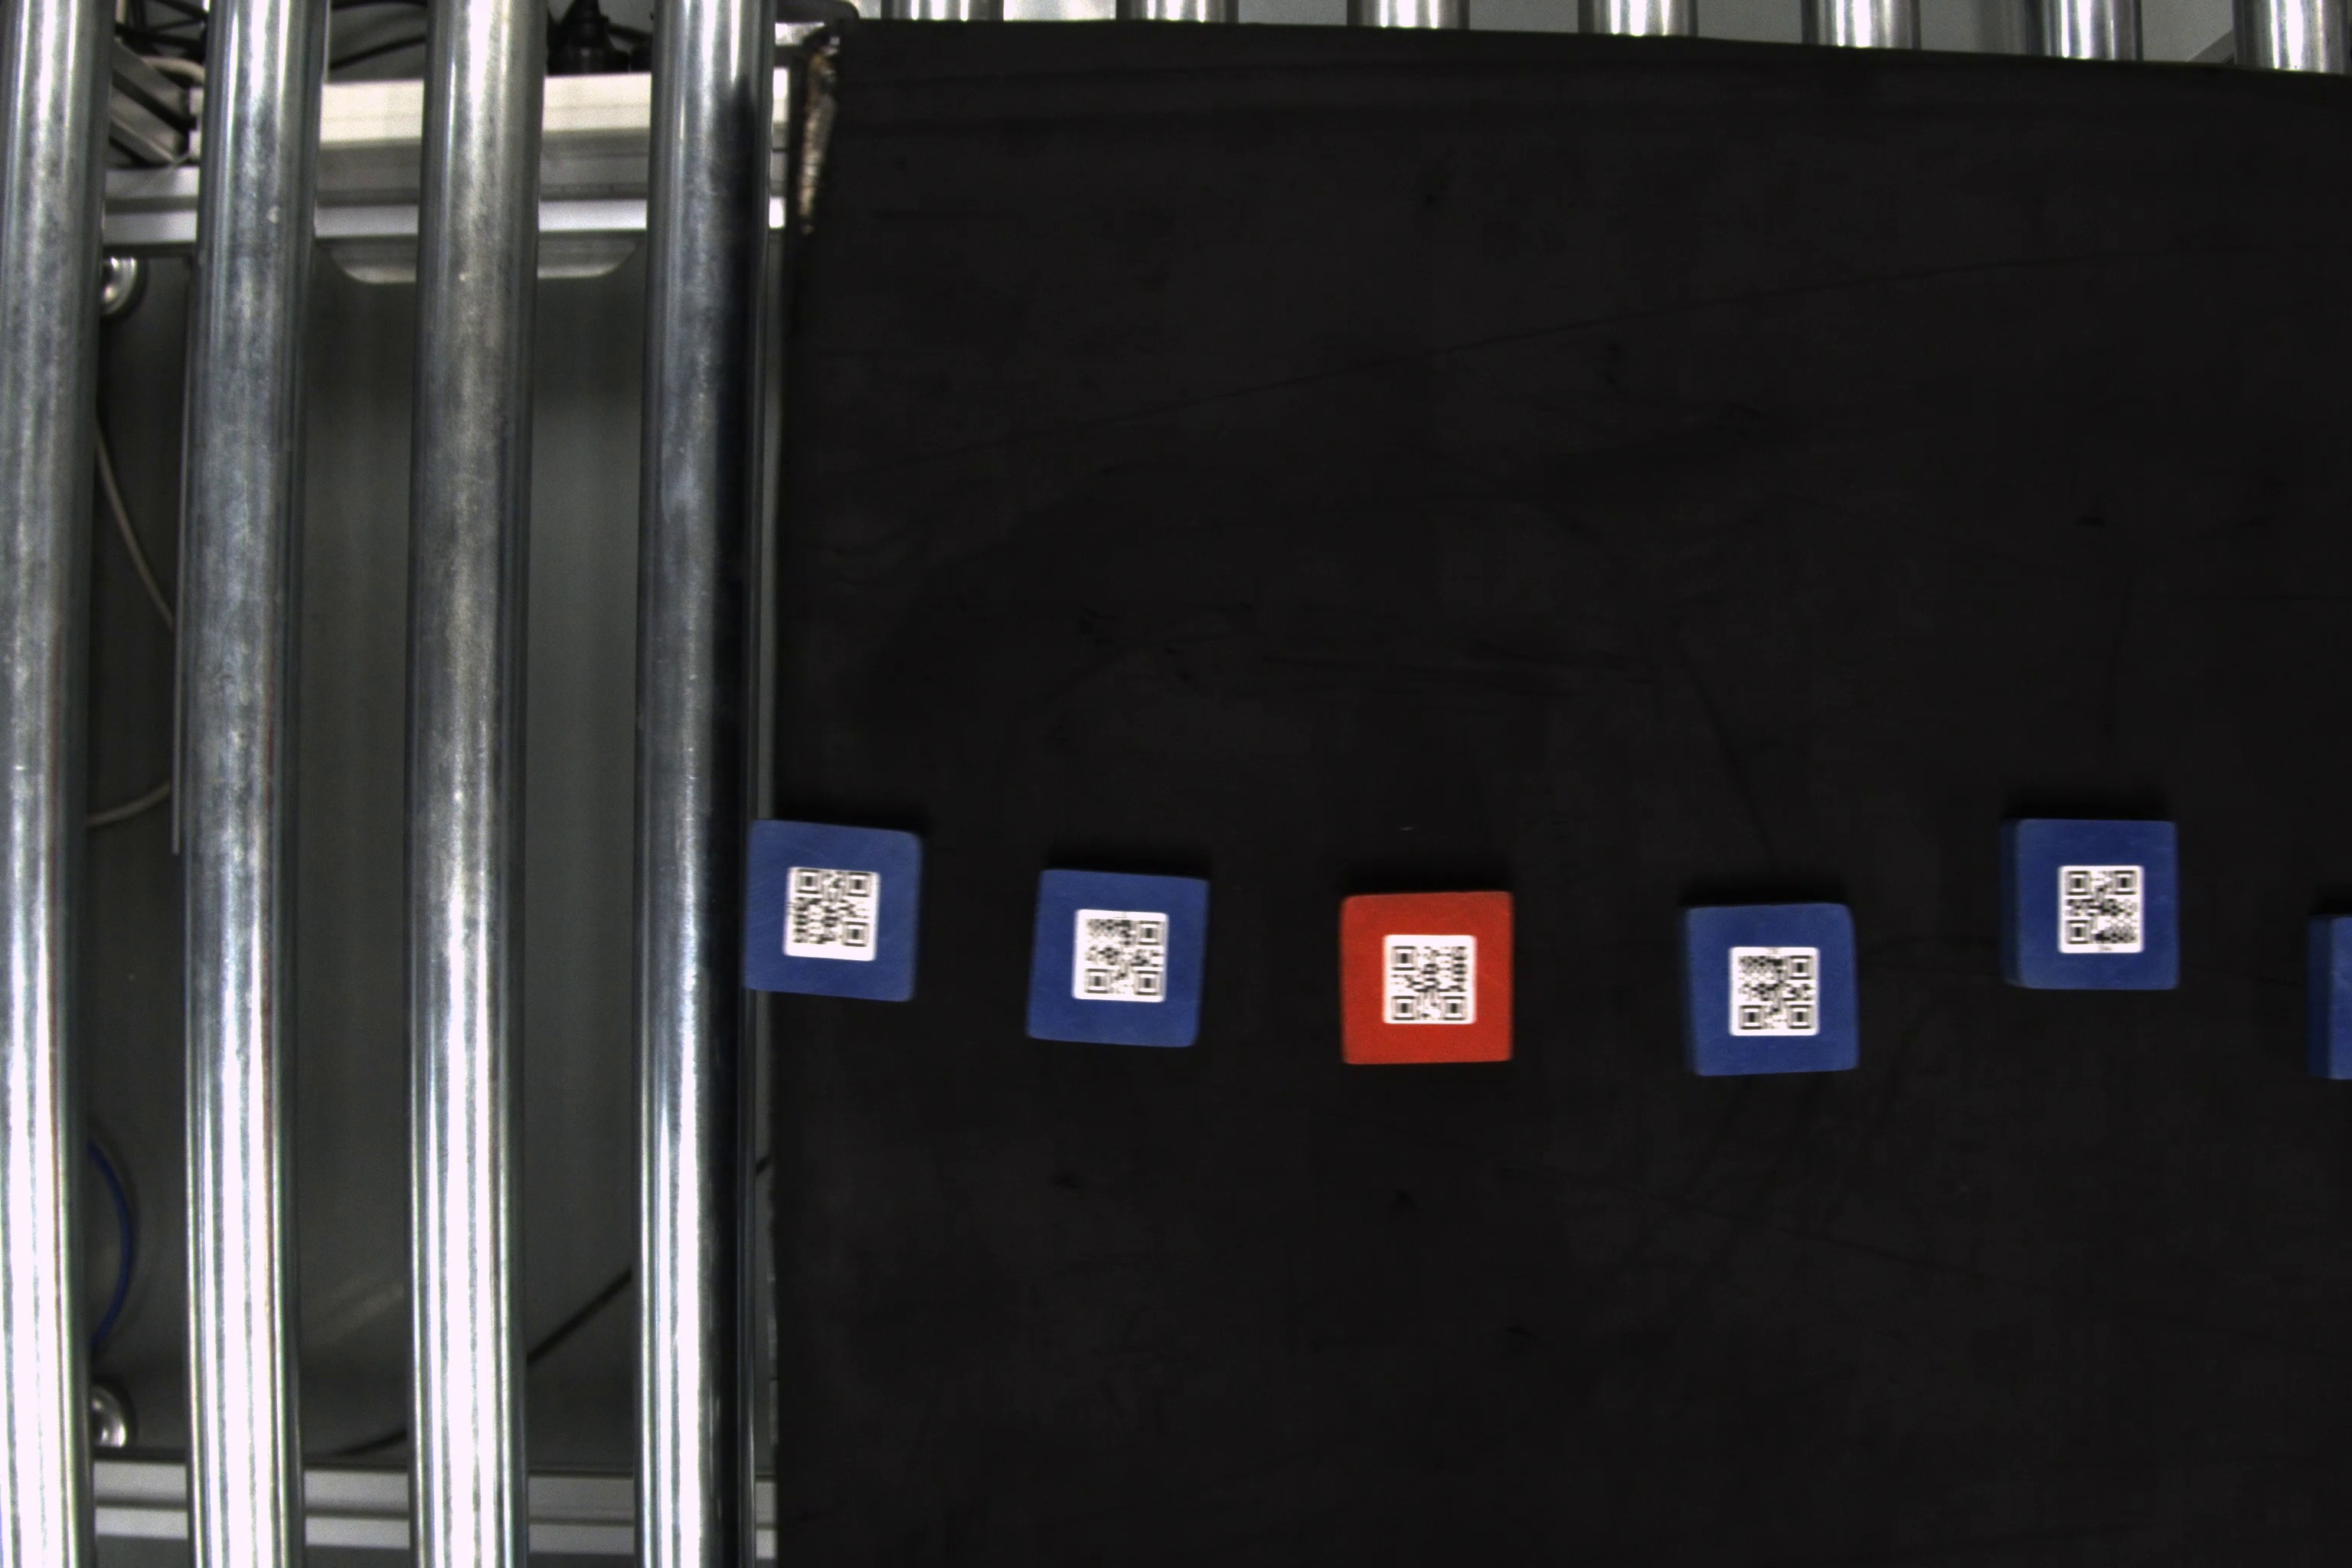wood: (1017, 856, 1220, 1055), (733, 814, 931, 1004), (1328, 884, 1522, 1071), (1676, 901, 1864, 1081), (2000, 815, 2186, 994)
